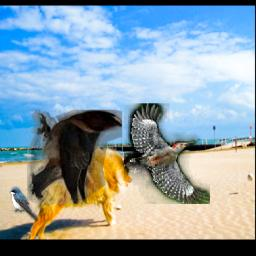Swallow: (28, 111, 123, 205), (10, 187, 39, 221)
Woodpecker: (124, 103, 210, 204)
